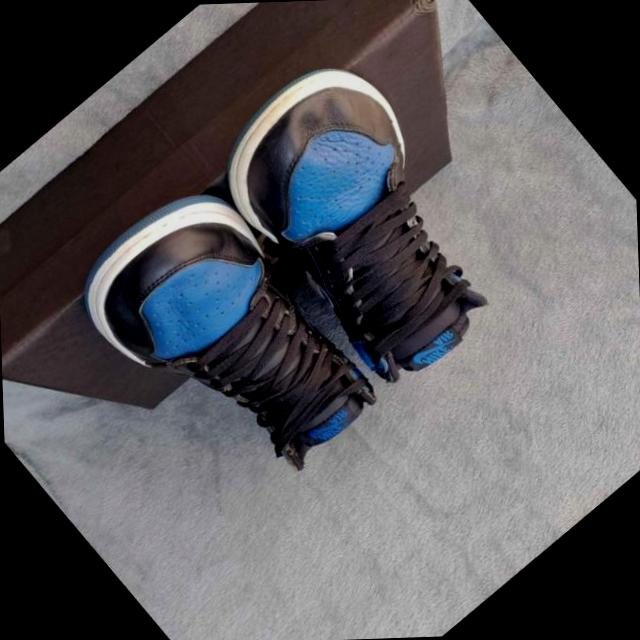nike_fake_jordan: (186, 30, 544, 408), (53, 158, 402, 528)
